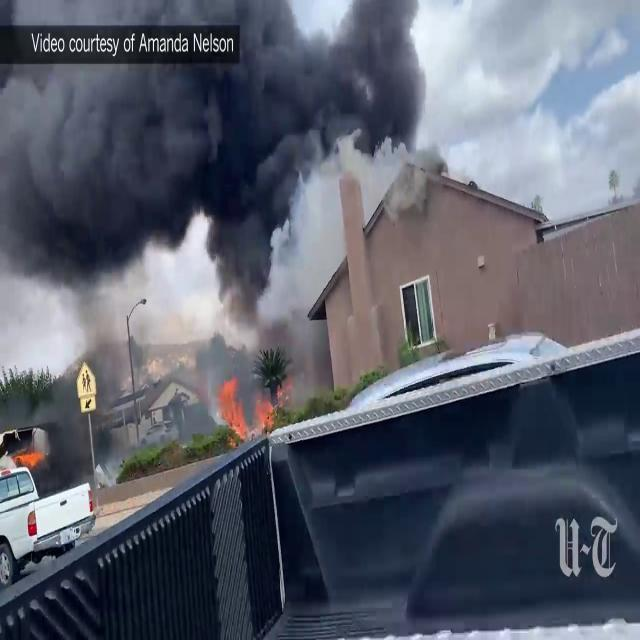Smoke: (0, 0, 434, 308)
